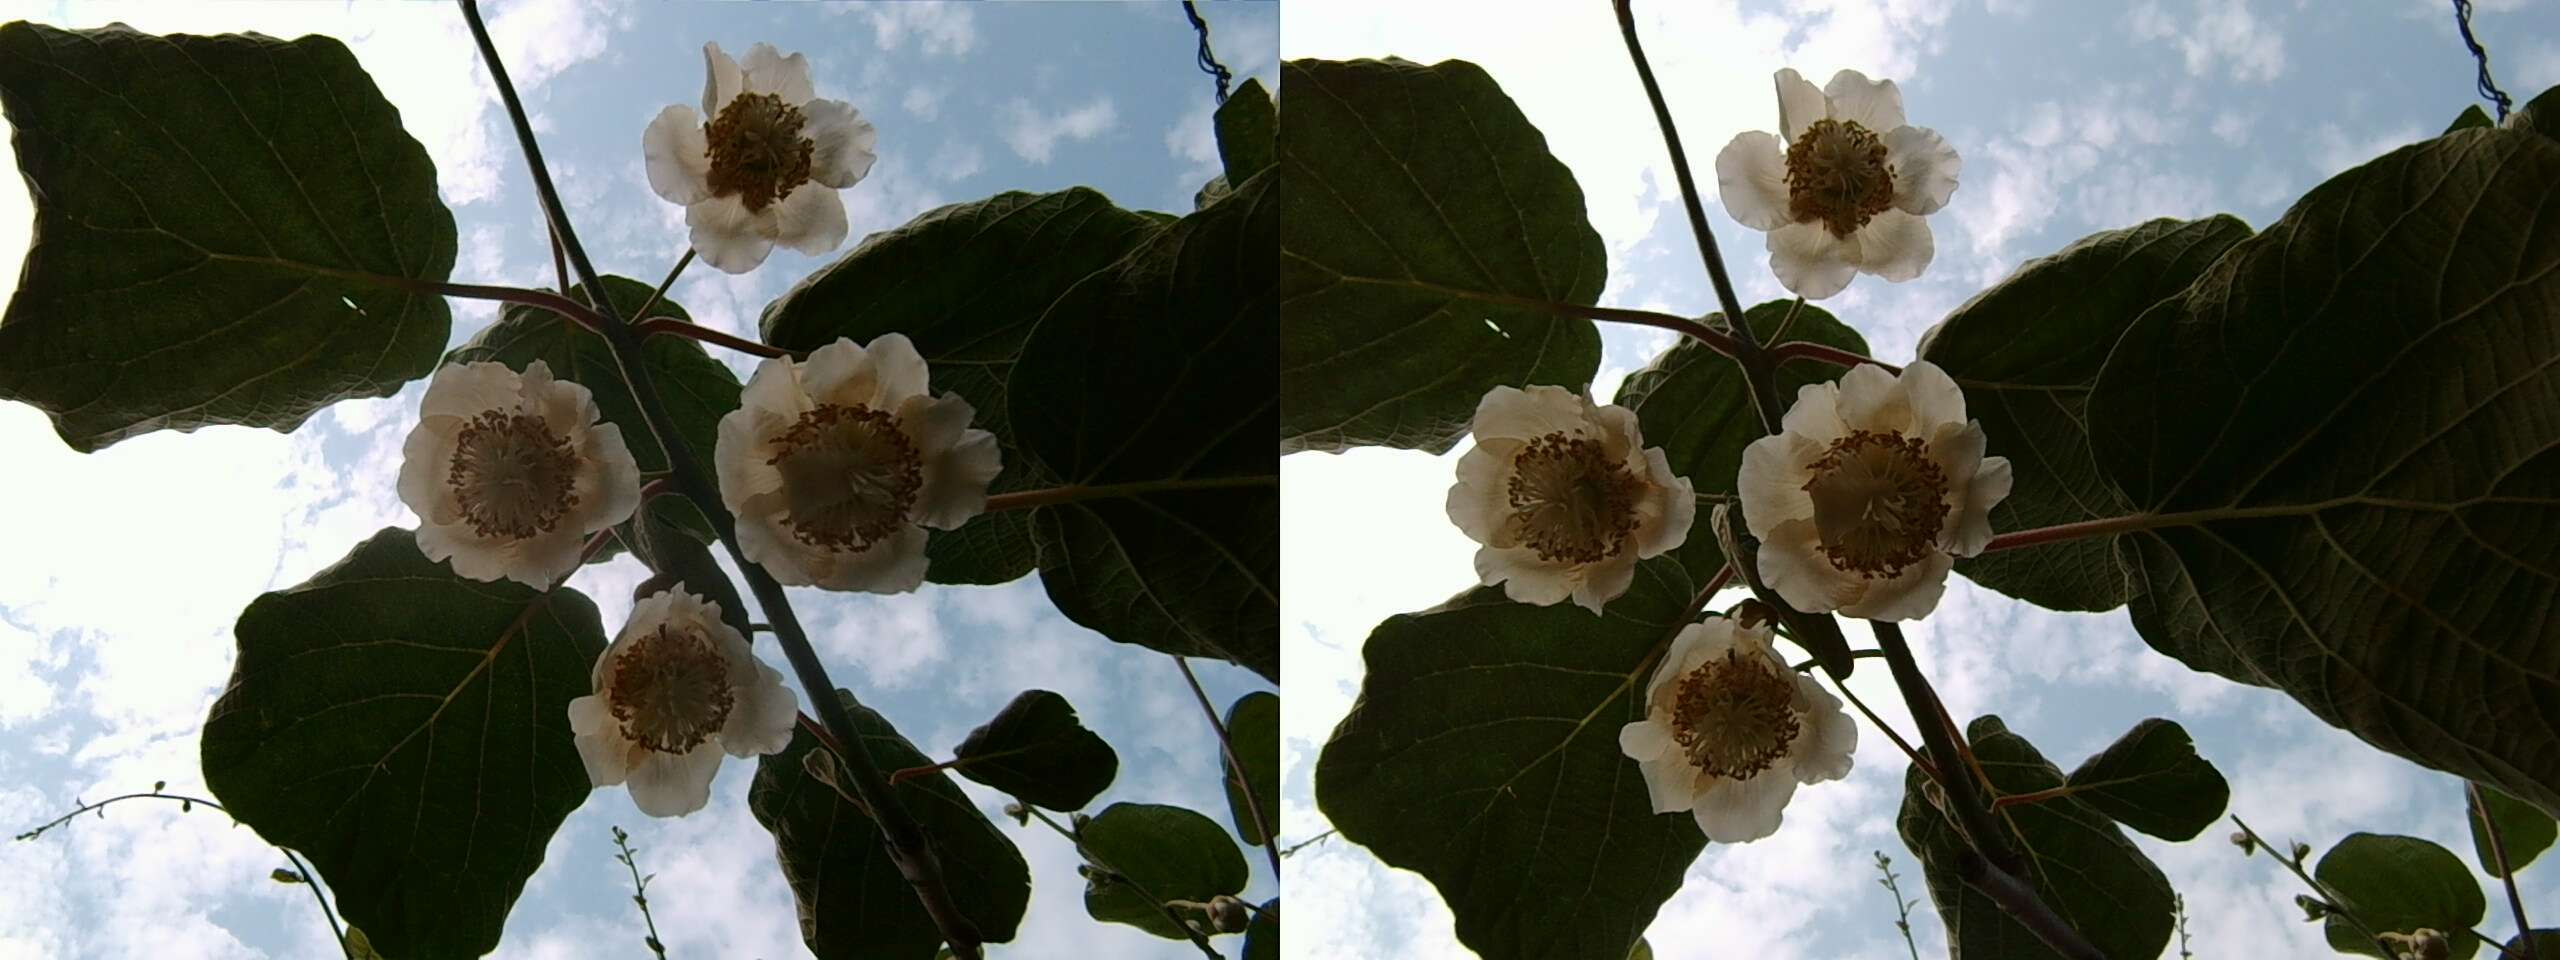flower: (718, 327, 988, 593), (1745, 348, 2002, 619), (1711, 52, 1961, 292), (390, 344, 633, 589), (550, 575, 797, 813), (1437, 371, 1685, 606), (642, 20, 873, 264), (1610, 611, 1853, 841)
